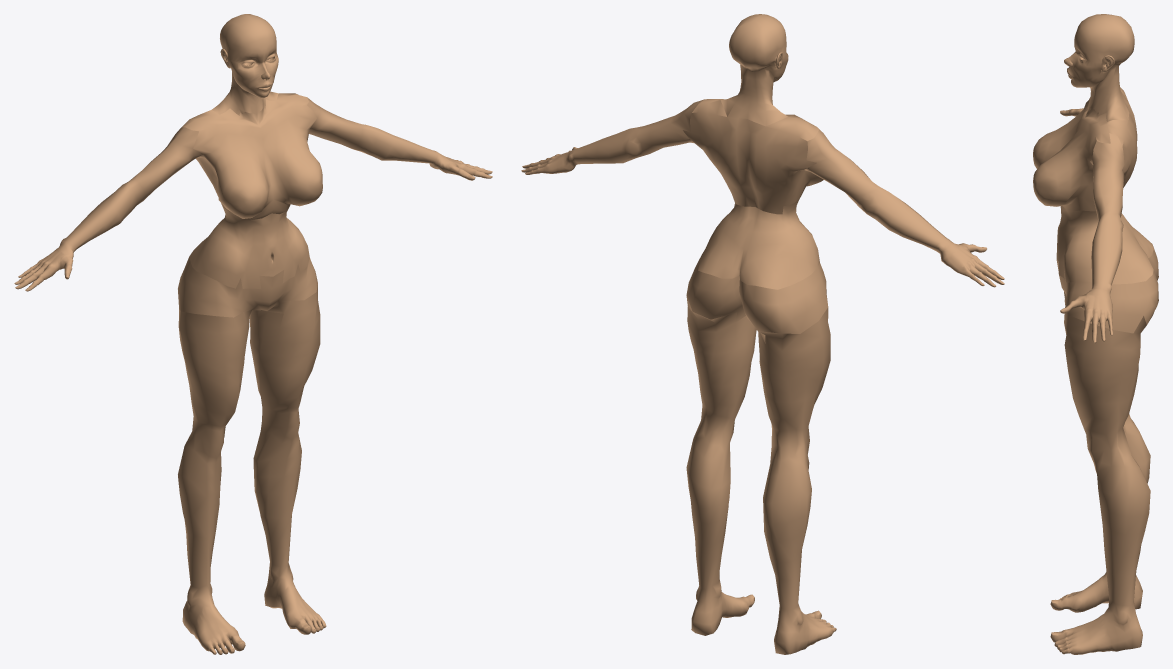
Rendered from female.glb.
3 renders of one model, left to right at view 1: azimuth 30°, elevation 25°; view 2: azimuth 150°, elevation 25°; view 3: azimuth 270°, elevation 25°, orthographic.
Parts seen in each view (by area): view 1: rightleg, leftleg, chest, abdomen, rightarm, pelvis, head, leftarm; view 2: rightleg, leftleg, chest, abdomen, rightarm, pelvis, head, leftarm; view 3: leftleg, chest, leftarm, head, abdomen, pelvis, rightleg.
Part boxes in pixels (x1,y1,x2,y2): rightleg: [178, 309, 249, 654]; leftleg: [249, 285, 326, 634]; chest: [182, 93, 322, 220]; abdomen: [189, 205, 309, 288]; rightarm: [14, 127, 202, 291]; pelvis: [178, 257, 317, 321]; head: [212, 14, 278, 115]; leftarm: [297, 94, 492, 180]; rightleg: [758, 307, 836, 654]; leftleg: [686, 296, 756, 635]; chest: [683, 99, 823, 214]; abdomen: [698, 198, 819, 289]; rightarm: [805, 128, 1004, 287]; pelvis: [686, 256, 828, 343]; head: [721, 14, 788, 126]; leftarm: [521, 99, 703, 174]; leftleg: [1050, 313, 1150, 654]; chest: [1033, 87, 1137, 211]; leftarm: [1060, 133, 1124, 343]; head: [1064, 14, 1134, 121]; abdomen: [1056, 206, 1153, 284]; pelvis: [1056, 246, 1158, 333]; rightleg: [1050, 292, 1150, 612].
Size of the model in its own units: 1.45 by 1.77 by 0.3296.
